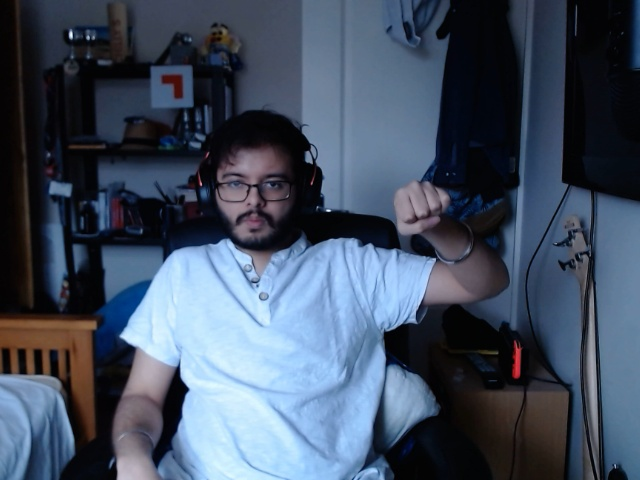Yes: (389, 174, 463, 239)
